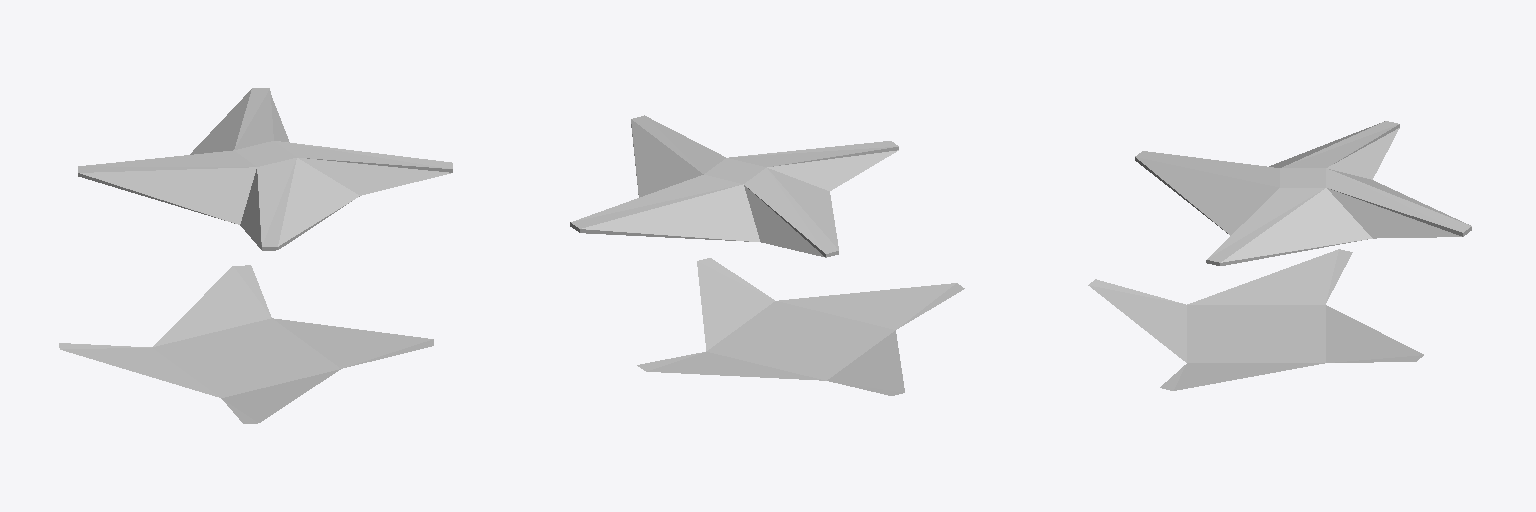
File: inimigox.obj
3 views of the same model, side by side, from view 1: azimuth 30°, elevation 25°; view 2: azimuth 150°, elevation 25°; view 3: azimuth 270°, elevation 25° (orthographic).
Visible parts, largest first — view 1: Cube; view 2: Cube; view 3: Cube.
Part boxes in pixels (left/top/right/bottom): Cube: left=59, top=88, right=452, bottom=423; Cube: left=570, top=115, right=964, bottom=395; Cube: left=1088, top=121, right=1471, bottom=390.
Size of the model in its own units: 0.4758 by 0.2408 by 0.4742.